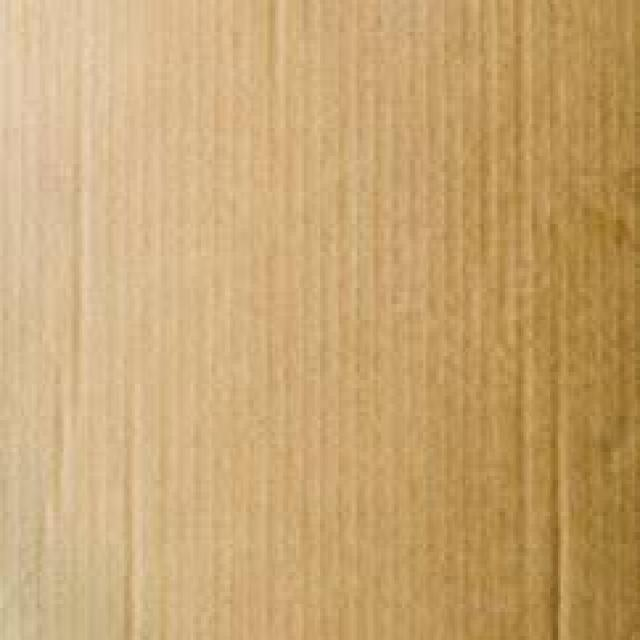cardboard: (0, 0, 637, 636)
